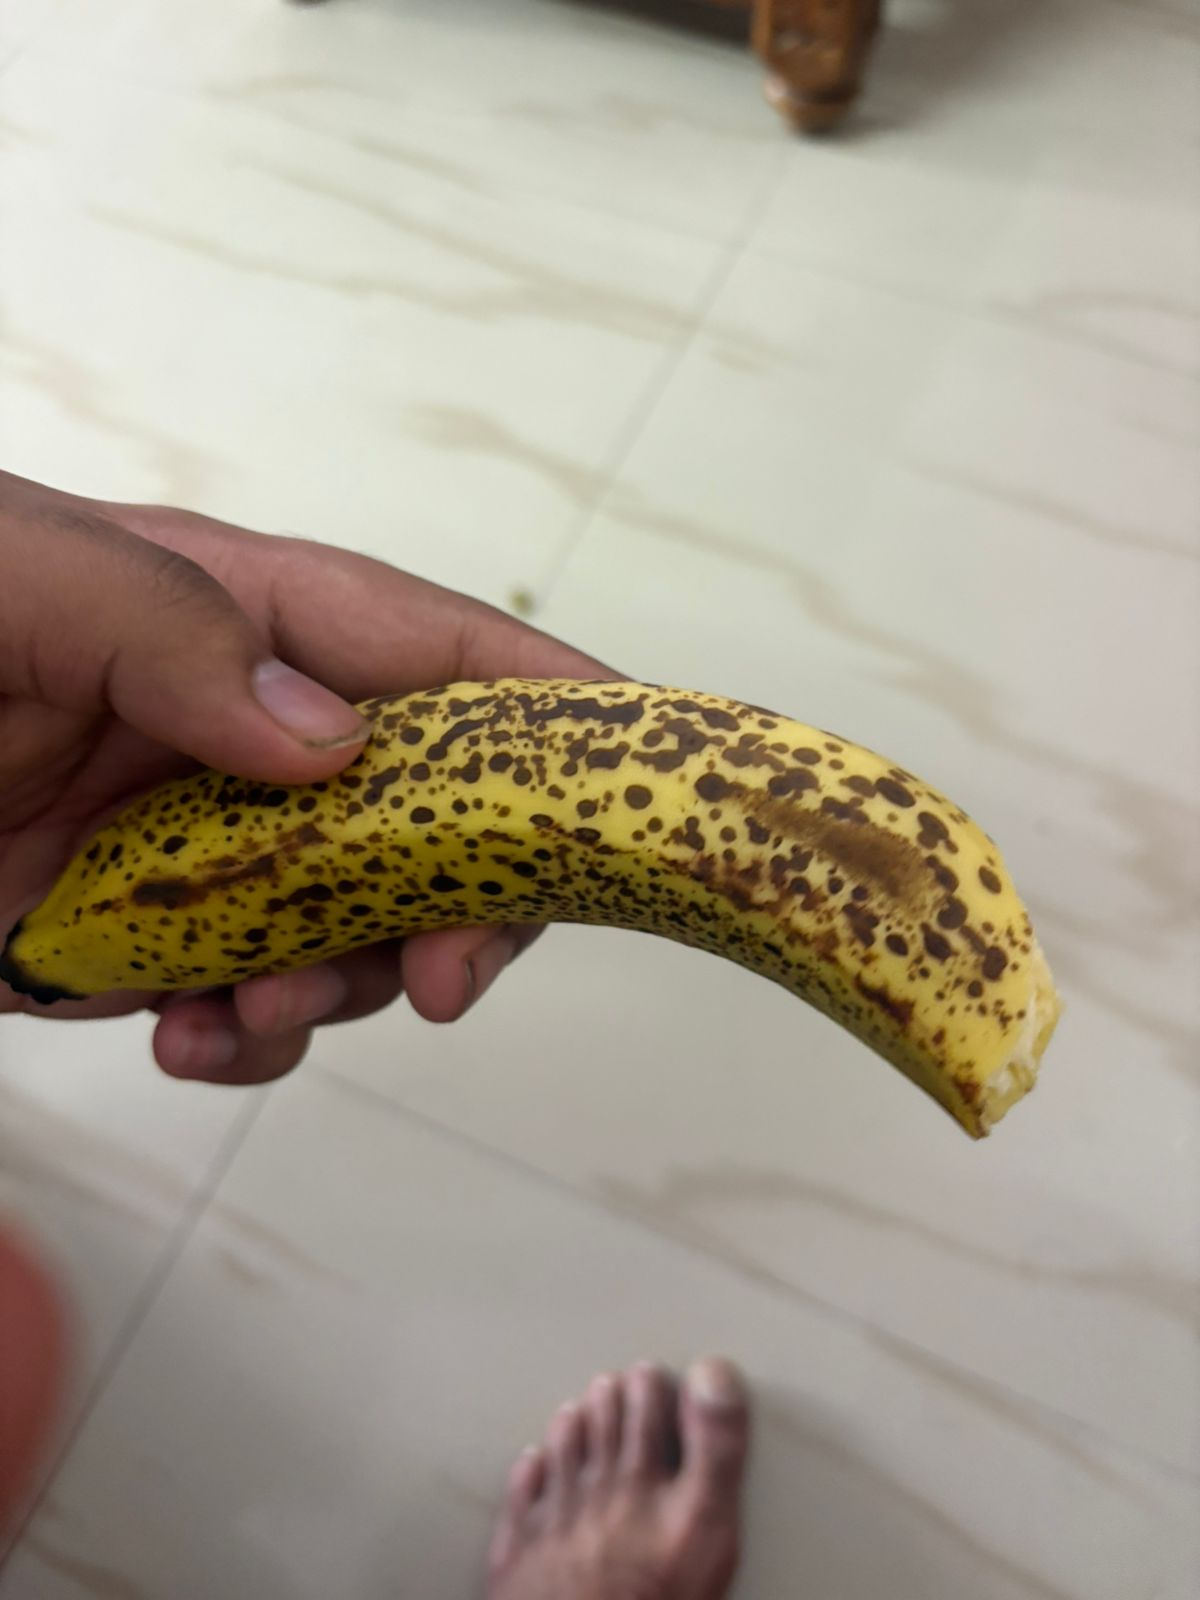wet: (26, 716, 1139, 1141)
